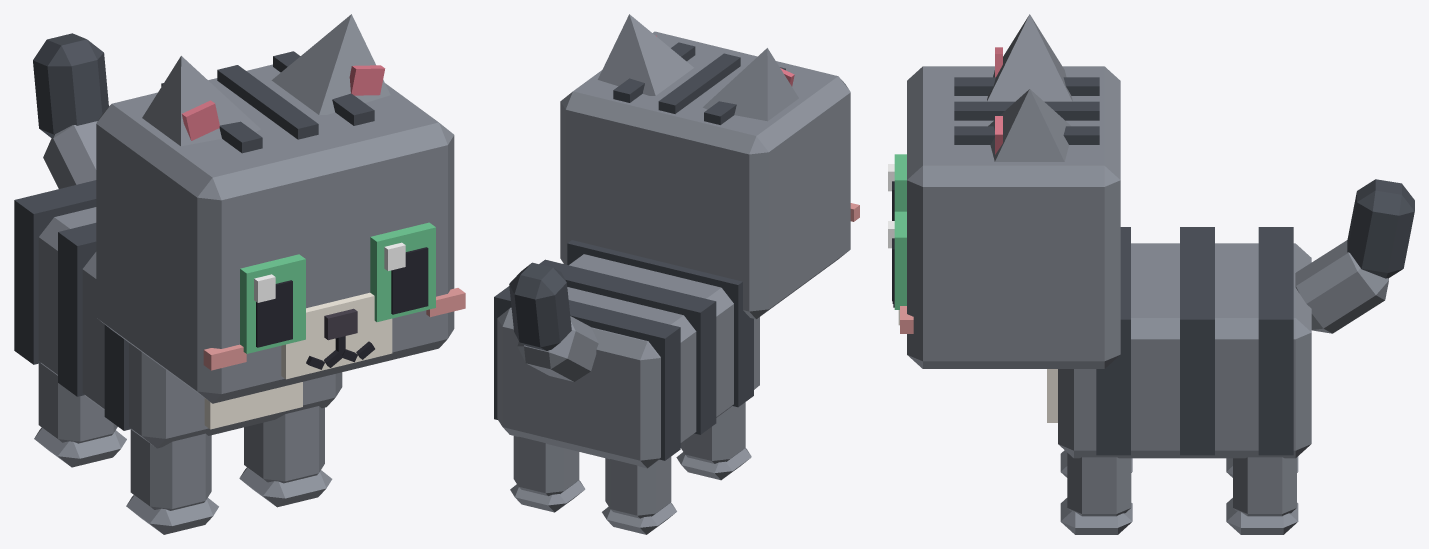
Rendered from CatCafe_Cat_Pipes.glb.
3 renders of one model, left to right at view 1: azimuth 30°, elevation 25°; view 2: azimuth 150°, elevation 25°; view 3: azimuth 270°, elevation 25°, orthographic. The views are drawn at different scales.
Parts seen in each view (by area): view 1: CatCafe_Cat_Pipes_Head, CatCafe_Cat_Pipes_Body, CatCafe_Cat_Pipes_Tail, CatCafe_Cat_Pipes_LegF2, CatCafe_Cat_Pipes_LegF1, CatCafe_Cat_Pipes_EarL, CatCafe_Cat_Pipes_Eye2, CatCafe_Cat_Pipes_Eye1, CatCafe_Cat_Pipes_LegB2, CatCafe_Cat_Pipes_EarR; view 2: CatCafe_Cat_Pipes_Head, CatCafe_Cat_Pipes_Body, CatCafe_Cat_Pipes_Tail, CatCafe_Cat_Pipes_LegB2, CatCafe_Cat_Pipes_LegB1, CatCafe_Cat_Pipes_EarL, CatCafe_Cat_Pipes_EarR, CatCafe_Cat_Pipes_LegF2; view 3: CatCafe_Cat_Pipes_Head, CatCafe_Cat_Pipes_Body, CatCafe_Cat_Pipes_Tail, CatCafe_Cat_Pipes_LegF1, CatCafe_Cat_Pipes_LegB1, CatCafe_Cat_Pipes_EarR, CatCafe_Cat_Pipes_EarL, CatCafe_Cat_Pipes_Eye1, CatCafe_Cat_Pipes_Eye2.
Part boxes in pixels (x1,y1,x2,y2): CatCafe_Cat_Pipes_Head: [96, 51, 465, 403]; CatCafe_Cat_Pipes_Body: [14, 180, 342, 448]; CatCafe_Cat_Pipes_Tail: [33, 33, 108, 188]; CatCafe_Cat_Pipes_LegF2: [126, 429, 218, 534]; CatCafe_Cat_Pipes_LegF1: [239, 406, 332, 507]; CatCafe_Cat_Pipes_EarL: [271, 14, 390, 115]; CatCafe_Cat_Pipes_Eye2: [240, 254, 305, 353]; CatCafe_Cat_Pipes_Eye1: [370, 222, 435, 321]; CatCafe_Cat_Pipes_LegB2: [34, 363, 126, 467]; CatCafe_Cat_Pipes_EarR: [142, 56, 260, 146]; CatCafe_Cat_Pipes_Head: [560, 31, 859, 319]; CatCafe_Cat_Pipes_Body: [494, 240, 759, 468]; CatCafe_Cat_Pipes_Tail: [509, 262, 598, 381]; CatCafe_Cat_Pipes_LegB2: [602, 456, 676, 534]; CatCafe_Cat_Pipes_LegB1: [510, 436, 585, 512]; CatCafe_Cat_Pipes_EarL: [597, 14, 693, 95]; CatCafe_Cat_Pipes_EarR: [703, 48, 798, 121]; CatCafe_Cat_Pipes_LegF2: [676, 402, 751, 480]; CatCafe_Cat_Pipes_Head: [892, 66, 1120, 368]; CatCafe_Cat_Pipes_Body: [1047, 227, 1311, 458]; CatCafe_Cat_Pipes_Tail: [1295, 179, 1414, 333]; CatCafe_Cat_Pipes_LegF1: [1060, 453, 1132, 534]; CatCafe_Cat_Pipes_LegB1: [1226, 457, 1298, 534]; CatCafe_Cat_Pipes_EarR: [987, 14, 1072, 101]; CatCafe_Cat_Pipes_EarL: [988, 89, 1070, 161]; CatCafe_Cat_Pipes_Eye1: [888, 211, 906, 309]; CatCafe_Cat_Pipes_Eye2: [888, 154, 906, 220].
Size of the model in its own units: 1 by 1.86 by 1.97.
1 material, 1 textured.
